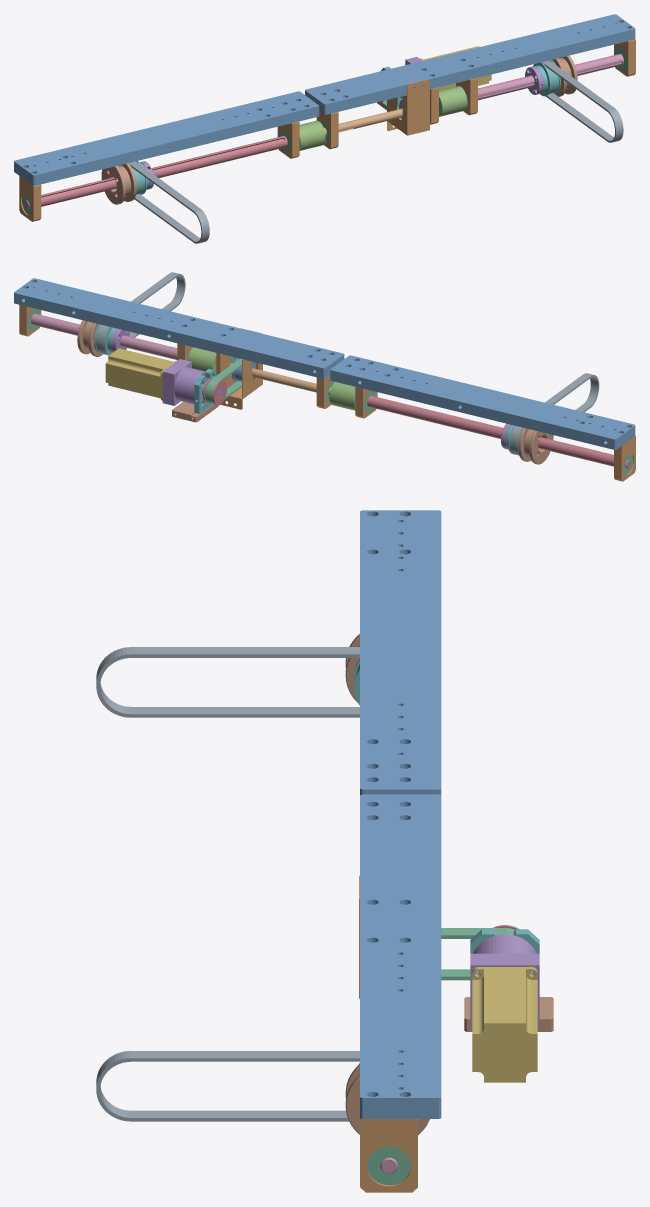
The picture shows the model from 3 angles, top to bottom: view 1: azimuth 30°, elevation 25°; view 2: azimuth 150°, elevation 25°; view 3: azimuth 270°, elevation 25°; orthographic projection. The views are drawn at different scales.
Parts seen in each view (by area): view 1: part_11_0_0, part_11_0_1, part_18_13_0, part_09_29_0, part_07_24_0, part_07_18_0, part_17_19_0, part_05_17_0, part_08_26_0, part_01_1_0, part_08_25_0, part_10_27_0 (+7 smaller); view 2: part_11_0_0, part_11_0_1, part_18_13_0, part_20_33_0, part_19_32_0, part_17_19_0, part_09_29_0, part_07_24_0, part_07_18_0, part_05_17_0, part_10_27_0, part_01_1_0 (+10 smaller); view 3: part_11_0_0, part_11_0_1, part_20_33_0, part_07_24_0, part_07_18_0, part_01_11_0, part_19_32_0, part_02_12_0.
Boxes of the visible parts, left/top/right/bottom form: part_11_0_0: left=305, top=14, right=635, bottom=114; part_11_0_1: left=14, top=91, right=319, bottom=185; part_18_13_0: left=24, top=136, right=287, bottom=208; part_09_29_0: left=387, top=79, right=429, bottom=135; part_07_24_0: left=542, top=60, right=623, bottom=142; part_07_18_0: left=129, top=161, right=209, bottom=243; part_17_19_0: left=478, top=54, right=623, bottom=100; part_05_17_0: left=101, top=163, right=136, bottom=204; part_08_26_0: left=439, top=86, right=467, bottom=116; part_01_1_0: left=19, top=176, right=41, bottom=221; part_08_25_0: left=299, top=120, right=325, bottom=150; part_10_27_0: left=324, top=108, right=402, bottom=135; part_11_0_0: left=14, top=278, right=344, bottom=378; part_11_0_1: left=330, top=355, right=635, bottom=449; part_18_13_0: left=367, top=395, right=630, bottom=468; part_20_33_0: left=105, top=348, right=176, bottom=400; part_19_32_0: left=162, top=359, right=222, bottom=405; part_17_19_0: left=31, top=313, right=177, bottom=359; part_09_29_0: left=220, top=328, right=262, bottom=409; part_07_24_0: left=96, top=272, right=185, bottom=354; part_07_18_0: left=510, top=373, right=599, bottom=455; part_05_17_0: left=518, top=428, right=553, bottom=464; part_10_27_0: left=230, top=363, right=331, bottom=395; part_01_1_0: left=614, top=435, right=635, bottom=481; part_11_0_0: left=360, top=794, right=441, bottom=1118; part_11_0_1: left=360, top=510, right=441, bottom=795; part_20_33_0: left=472, top=967, right=537, bottom=1082; part_07_24_0: left=96, top=1051, right=359, bottom=1121; part_07_18_0: left=96, top=647, right=359, bottom=717; part_01_11_0: left=360, top=1118, right=417, bottom=1192; part_19_32_0: left=470, top=934, right=539, bottom=1028; part_02_12_0: left=367, top=1146, right=410, bottom=1185.
Size of the model in its own units: 1200 by 117 by 395.
